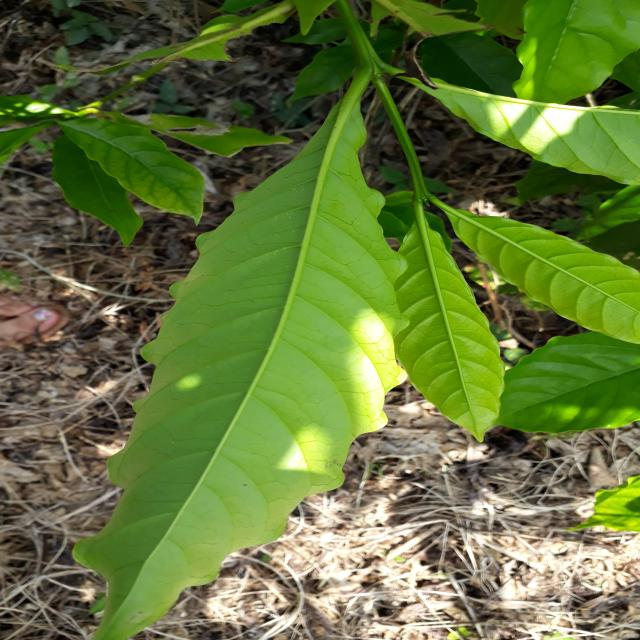Sanas: (73, 110, 392, 640)
